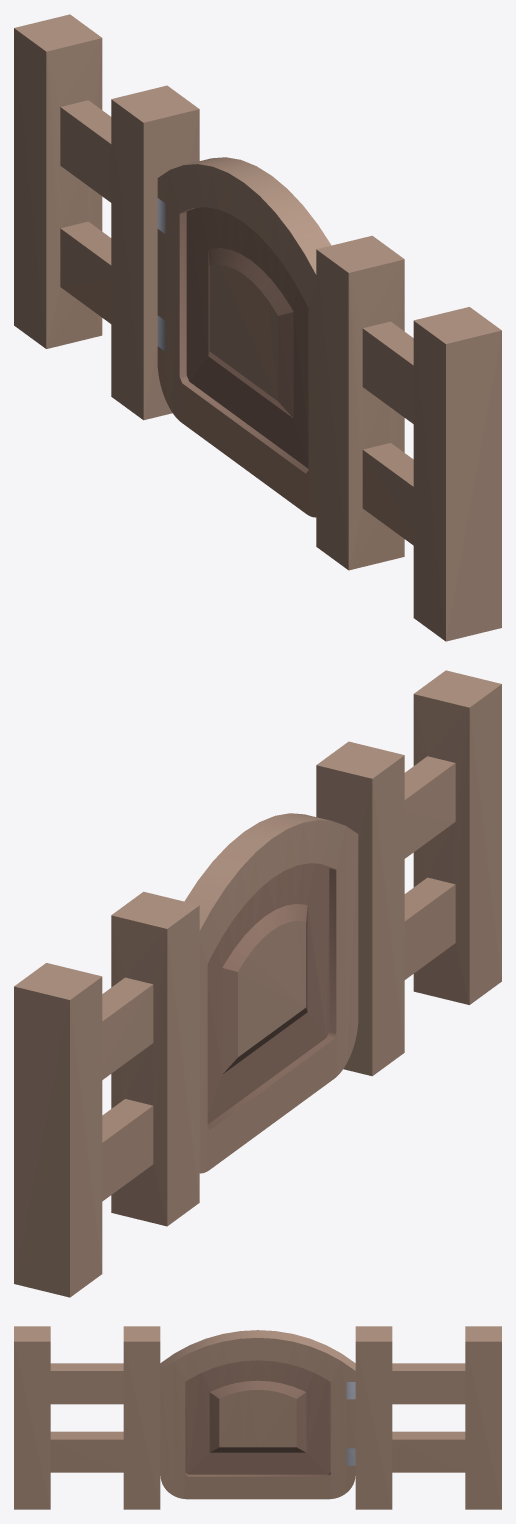
File: kenney_fence-gate.fbx
3 renders of one model, top to bottom at view 1: azimuth 30°, elevation 25°; view 2: azimuth 150°, elevation 25°; view 3: azimuth 270°, elevation 25°, orthographic. The views are drawn at different scales.
Parts seen in each view (by area): view 1: fence-gate; view 2: fence-gate; view 3: fence-gate.
Part boxes in pixels (box(x1,y1,x2,y2)): fence-gate: box(14, 14, 501, 641); fence-gate: box(14, 670, 501, 1297); fence-gate: box(14, 1326, 501, 1509).
Bounding box in the file's own units: 7.5 × 38 × 100.
